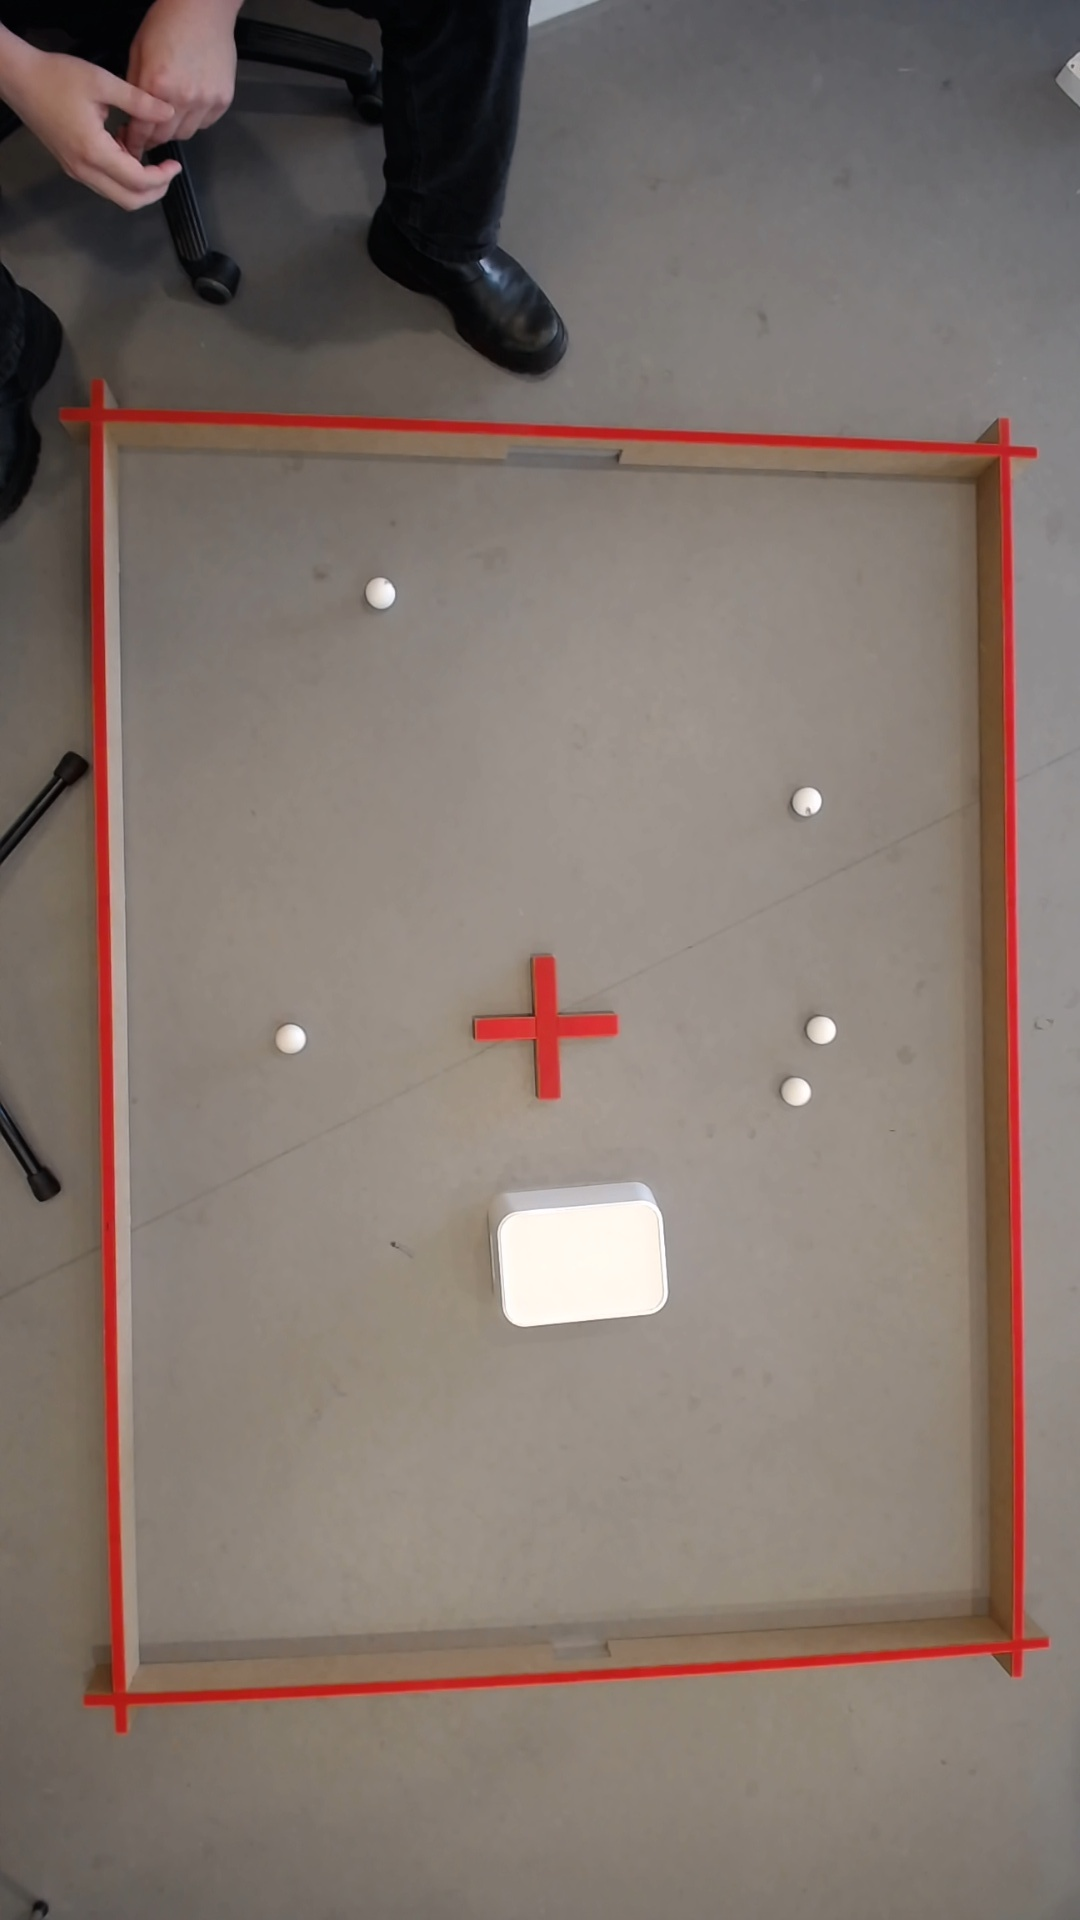balls: (491, 1182, 671, 1329), (783, 1076, 814, 1109), (368, 576, 398, 608), (799, 787, 822, 814), (814, 1017, 835, 1044)
car: (278, 1022, 310, 1052)
